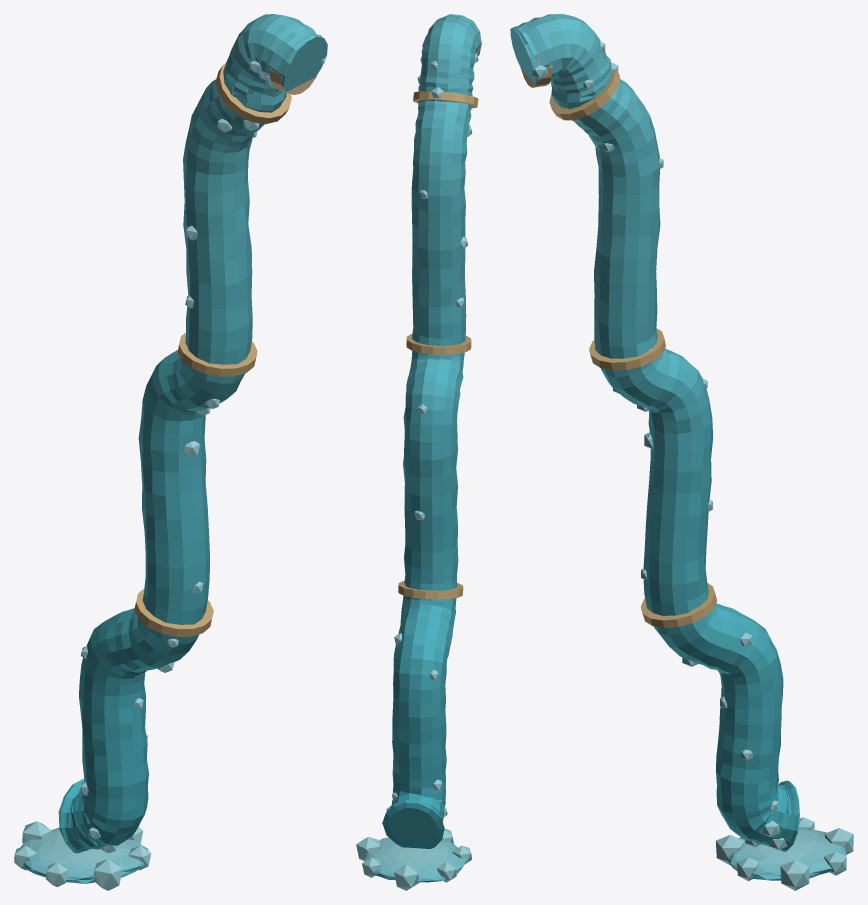
File: goo_drop_tube_goo_4@beach.fbx
3 views of the same model, side by side, from view 1: azimuth 30°, elevation 25°; view 2: azimuth 150°, elevation 25°; view 3: azimuth 270°, elevation 25° (orthographic). The views are drawn at different scales.
Visible parts, largest first — view 1: goo_drop_tube_goo_4; view 2: goo_drop_tube_goo_4; view 3: goo_drop_tube_goo_4.
Boxes of the visible parts, x1,y1,x2,y2 form: goo_drop_tube_goo_4: [14, 14, 327, 890]; goo_drop_tube_goo_4: [356, 14, 481, 890]; goo_drop_tube_goo_4: [510, 14, 853, 890].
Bounding box in the file's own units: 10.64 × 53.69 × 18.84.
